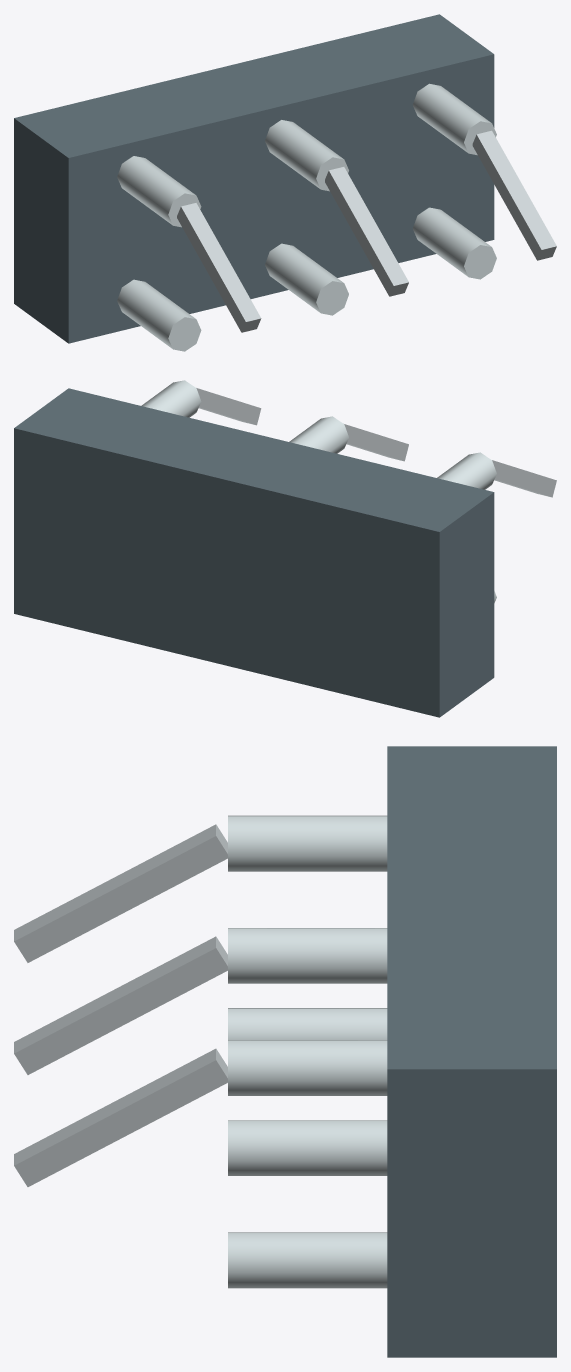
The model's file is switch-ground-open.glb.
3 renders of one model, top to bottom at view 1: azimuth 30°, elevation 25°; view 2: azimuth 150°, elevation 25°; view 3: azimuth 270°, elevation 25°, orthographic. The views are drawn at different scales.
Visible parts, largest first — view 1: switch-ground-open; view 2: switch-ground-open; view 3: switch-ground-open.
Part boxes in pixels (bbox=[...]): switch-ground-open: bbox=[14, 14, 556, 351]; switch-ground-open: bbox=[14, 380, 556, 717]; switch-ground-open: bbox=[14, 746, 556, 1357].
Size of the model in its own units: 3.6 by 1.5 by 2.56.
